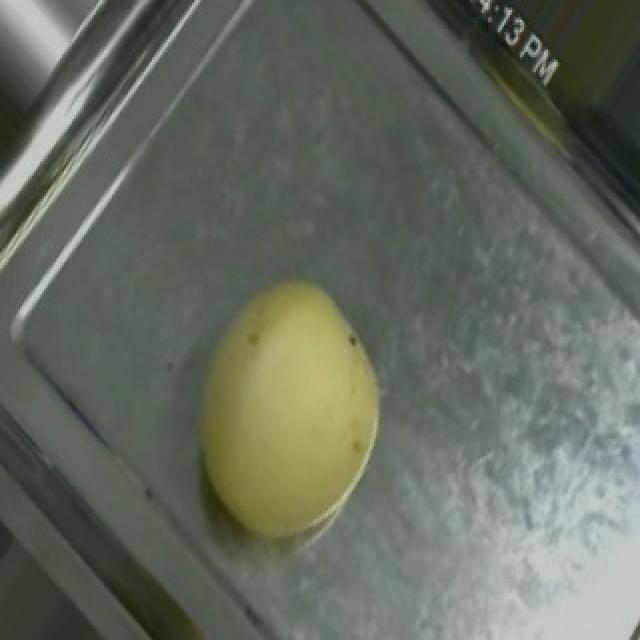Fruit: (146, 243, 422, 576)
